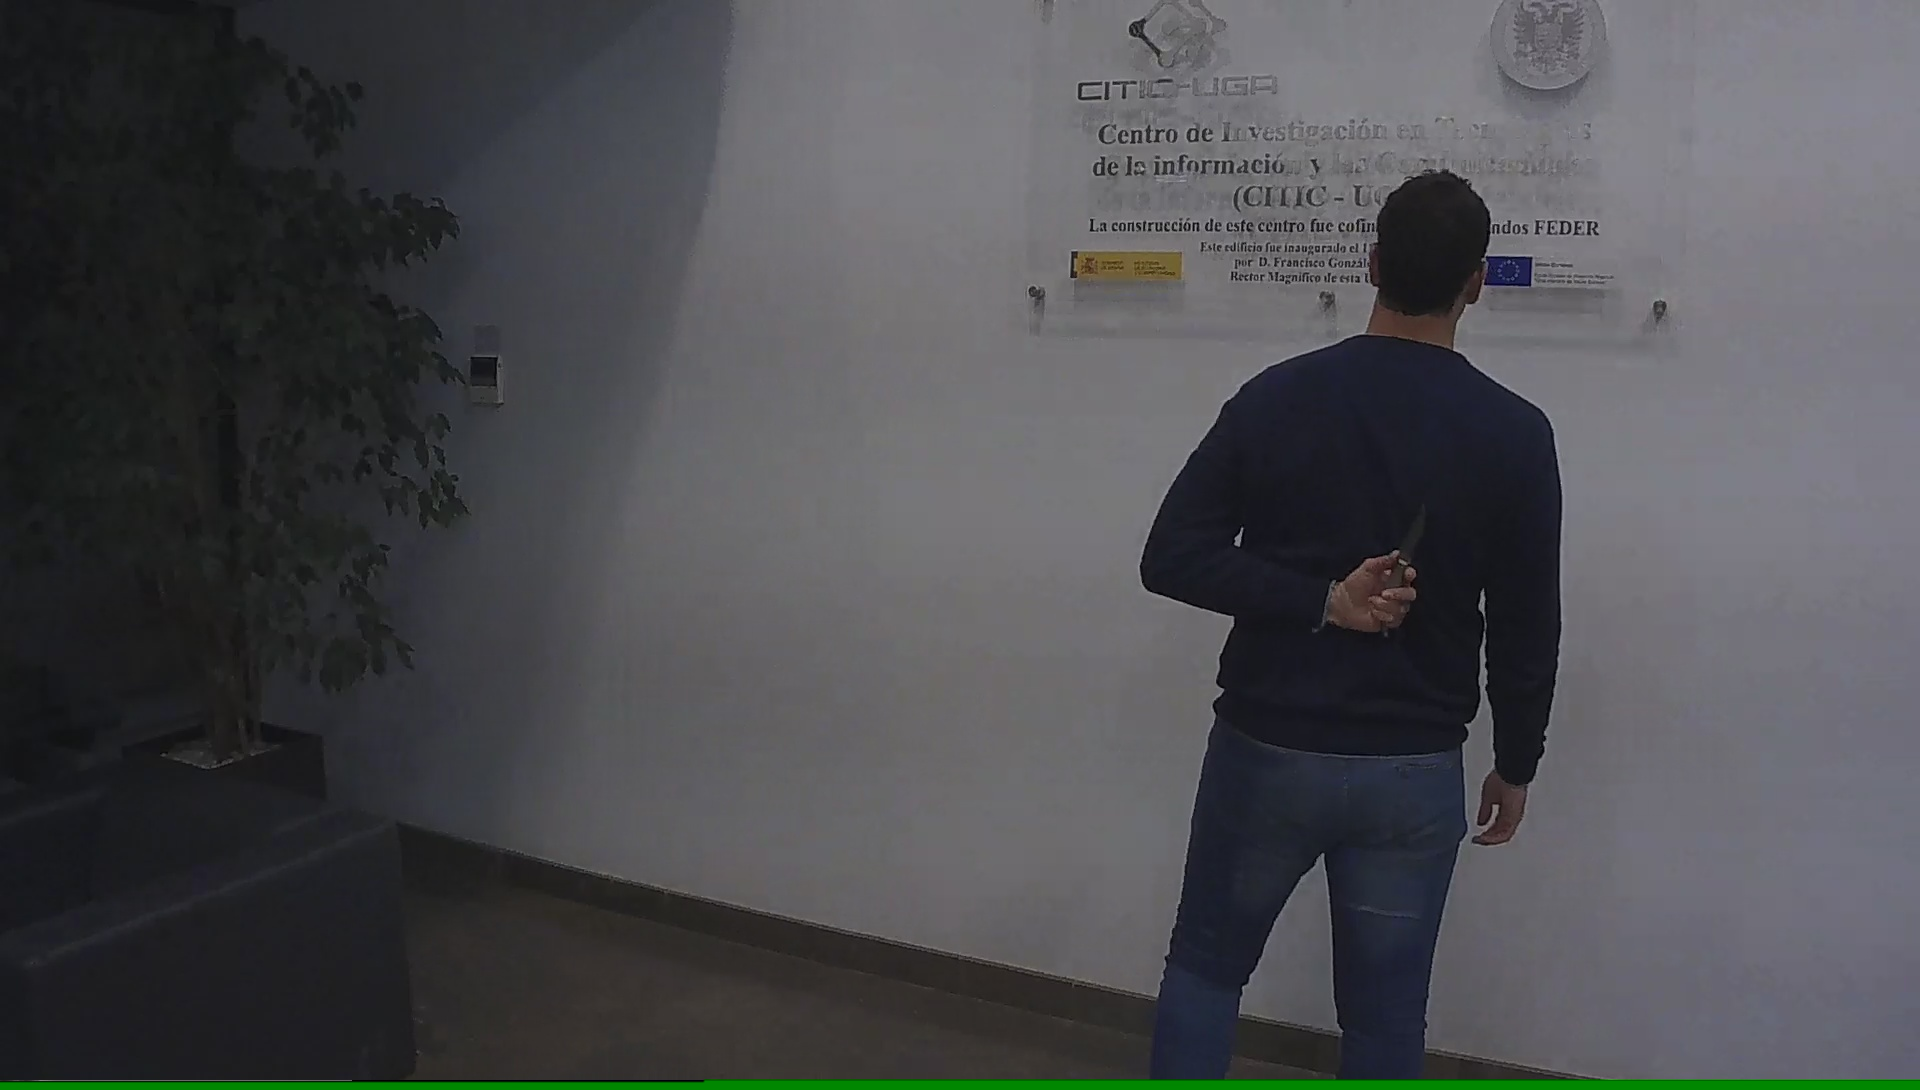knife: (1366, 490, 1437, 645)
